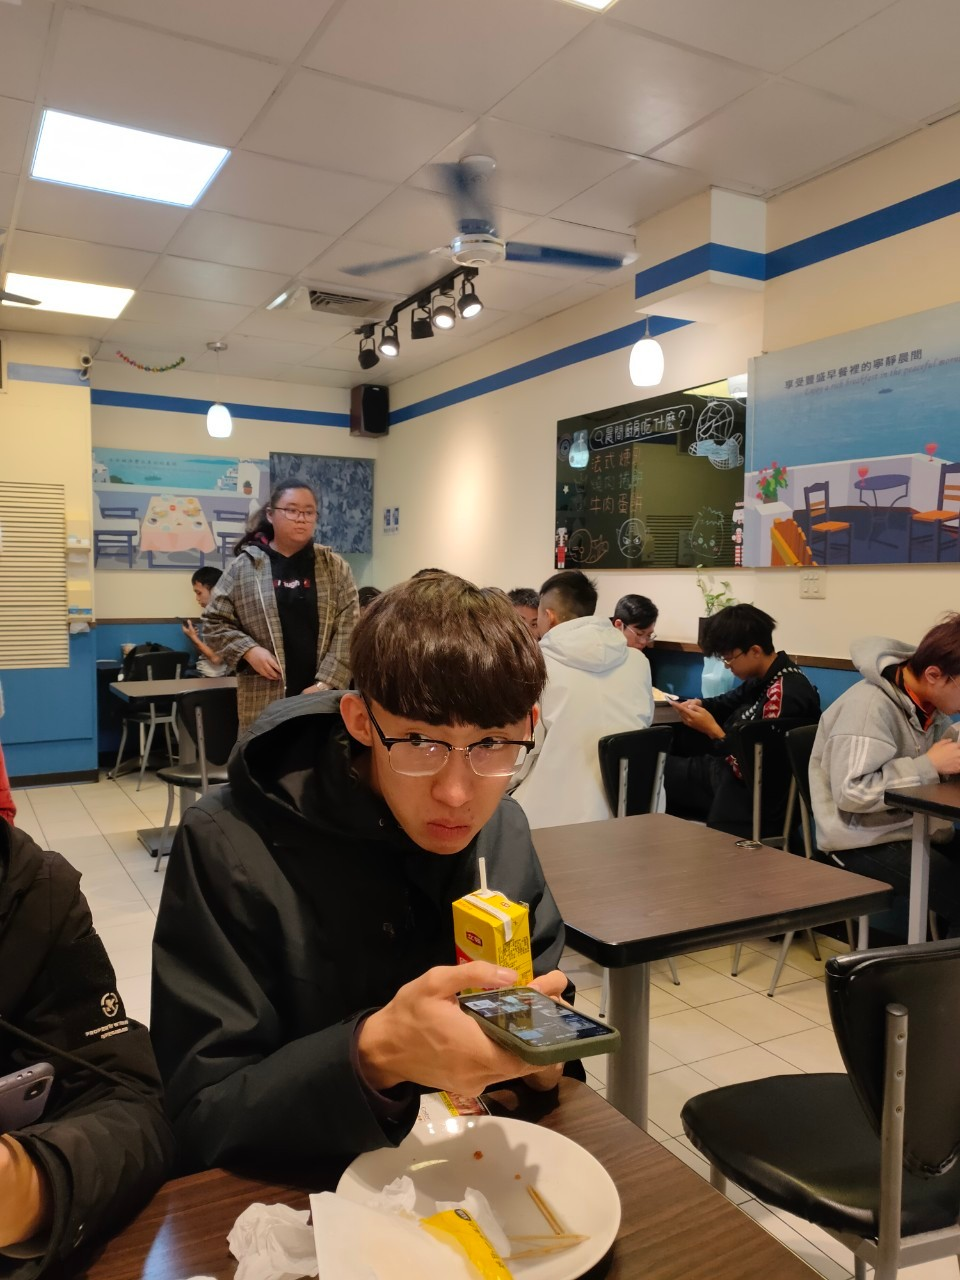people: (211, 584, 603, 1178), (836, 621, 960, 929), (205, 480, 360, 702), (536, 582, 664, 839), (695, 604, 819, 814), (619, 578, 664, 649), (181, 565, 230, 610)
